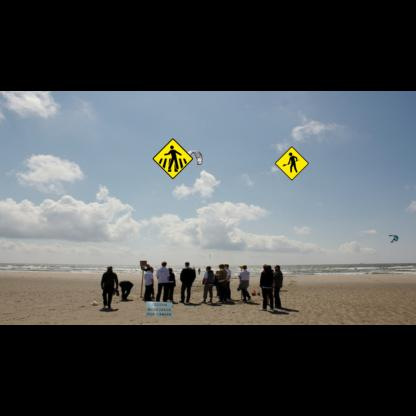A-24: (275, 146, 309, 181)
A-32b: (152, 138, 193, 179)
I-E: (146, 301, 172, 317)
